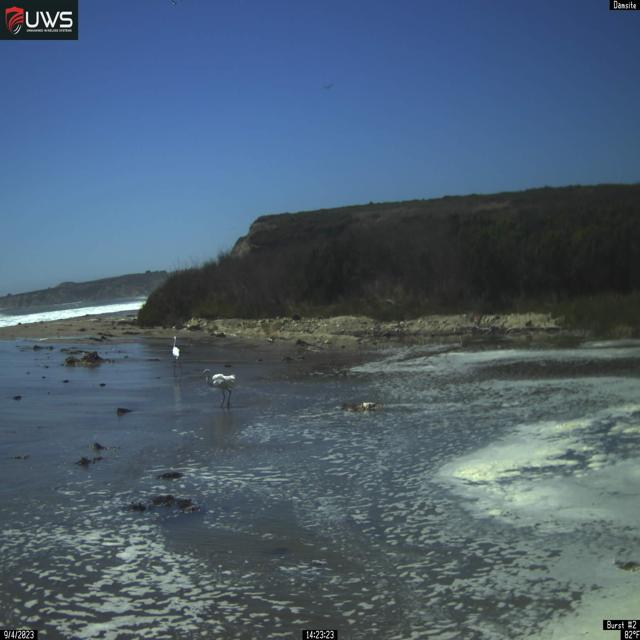bird: (199, 368, 237, 409)
